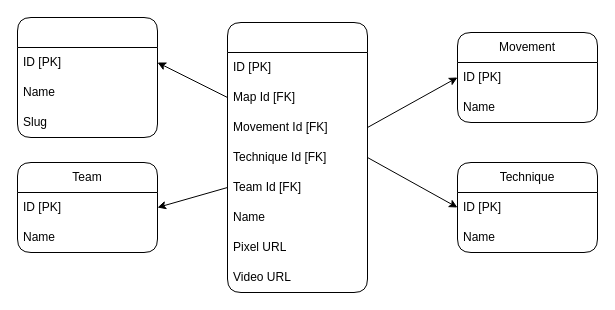
Image size: 615x310. Some labels were removed from this diagram. Each missing label, with the box of its shape:
Grenade: (226, 22, 368, 292)
Map: (16, 16, 158, 138)
